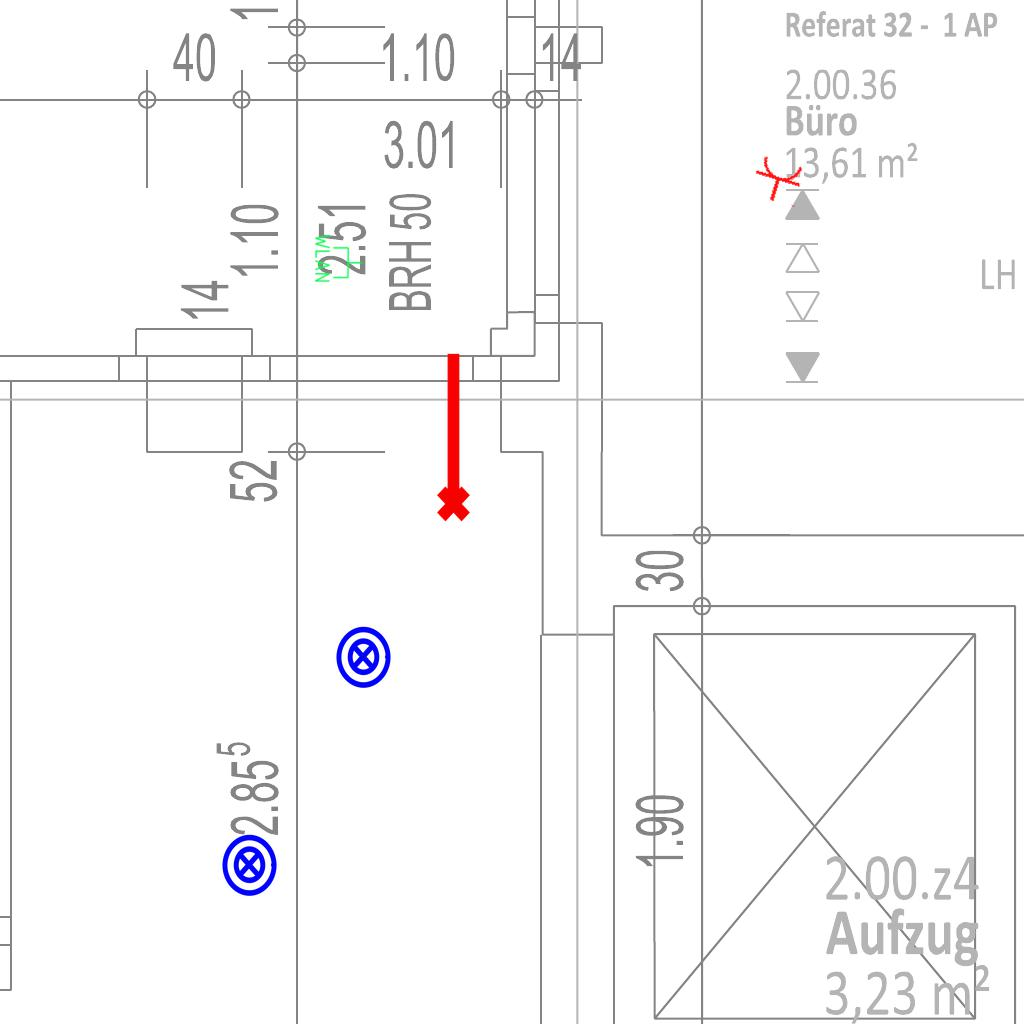ASR_Ansaugoeffnung: (428, 348, 474, 524)
Schukosteckdose_einfach: (748, 153, 809, 209)
Taster_beleuchtet: (216, 832, 282, 898), (330, 624, 396, 690)
WLAN: (313, 232, 365, 284)
